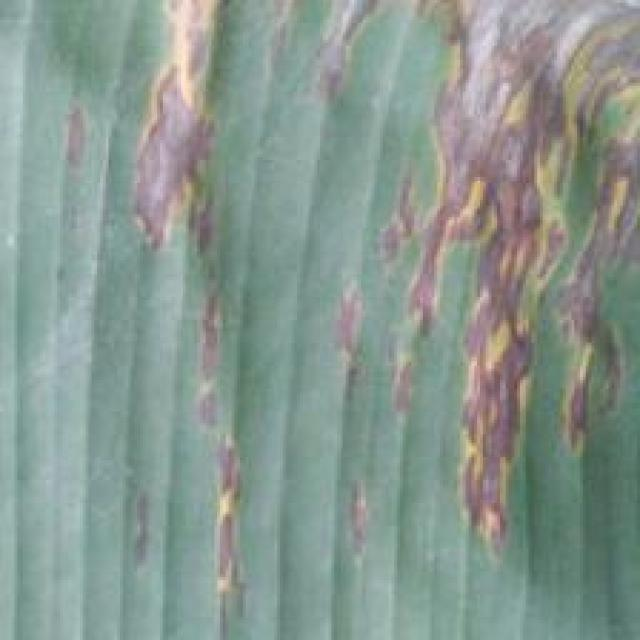Early_leaf_spot: (376, 0, 640, 556), (287, 227, 387, 576), (103, 0, 238, 256), (182, 290, 266, 592), (296, 0, 380, 98), (111, 474, 168, 588), (54, 85, 90, 176)
